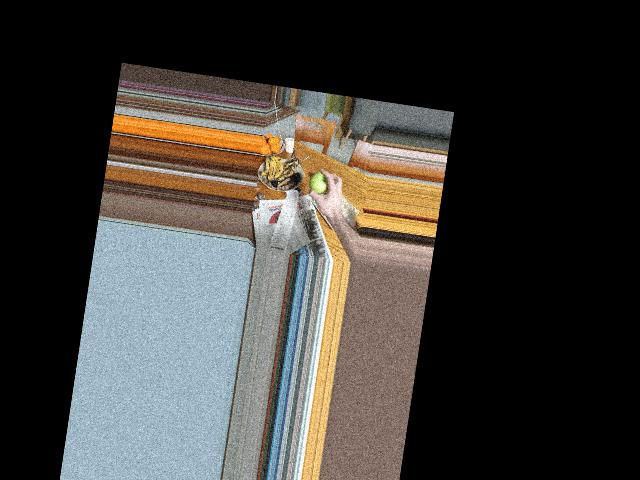apple: (306, 168, 332, 196)
